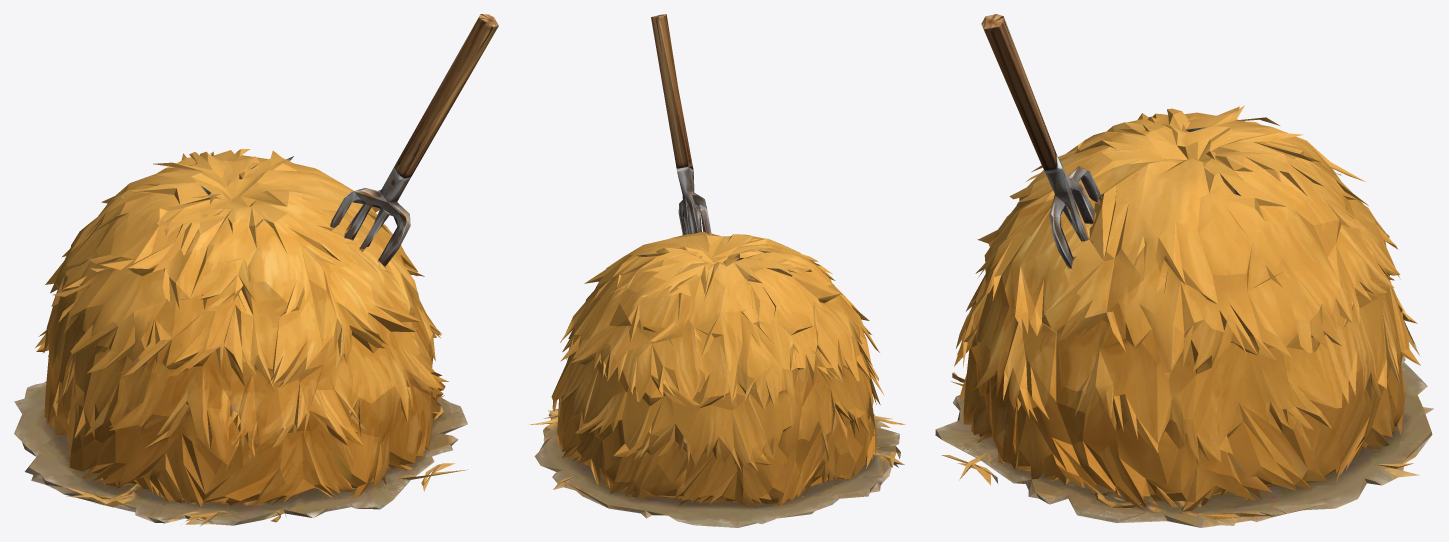
File: camp_meule.glb
3 renders of one model, left to right at view 1: azimuth 30°, elevation 25°; view 2: azimuth 150°, elevation 25°; view 3: azimuth 270°, elevation 25°, orthographic. The views are drawn at different scales.
Size of the model in its own units: 1.84 by 1.9 by 1.75.
1 material, 1 textured.
